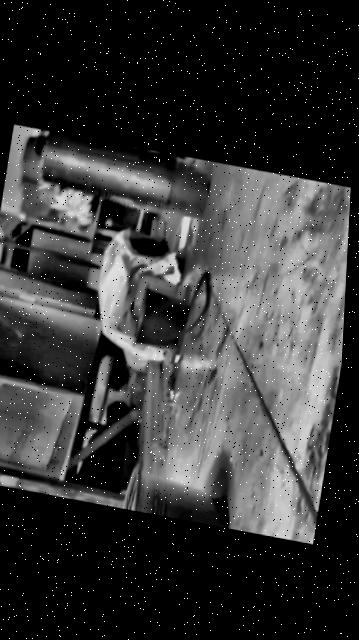pot: (120, 460, 238, 530), (132, 284, 189, 353)
